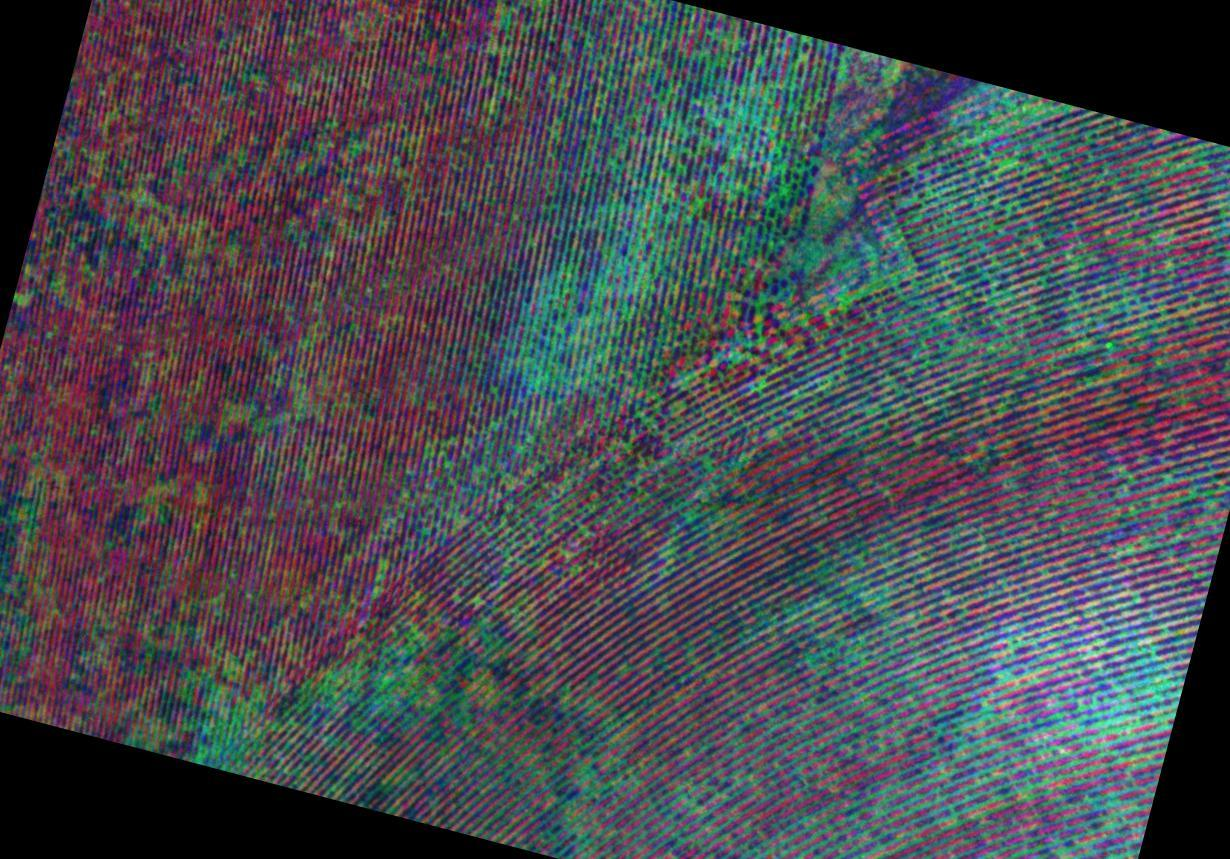dc: (211, 680, 294, 777), (796, 560, 886, 643), (528, 295, 602, 393), (623, 165, 681, 252), (1113, 668, 1176, 730)
